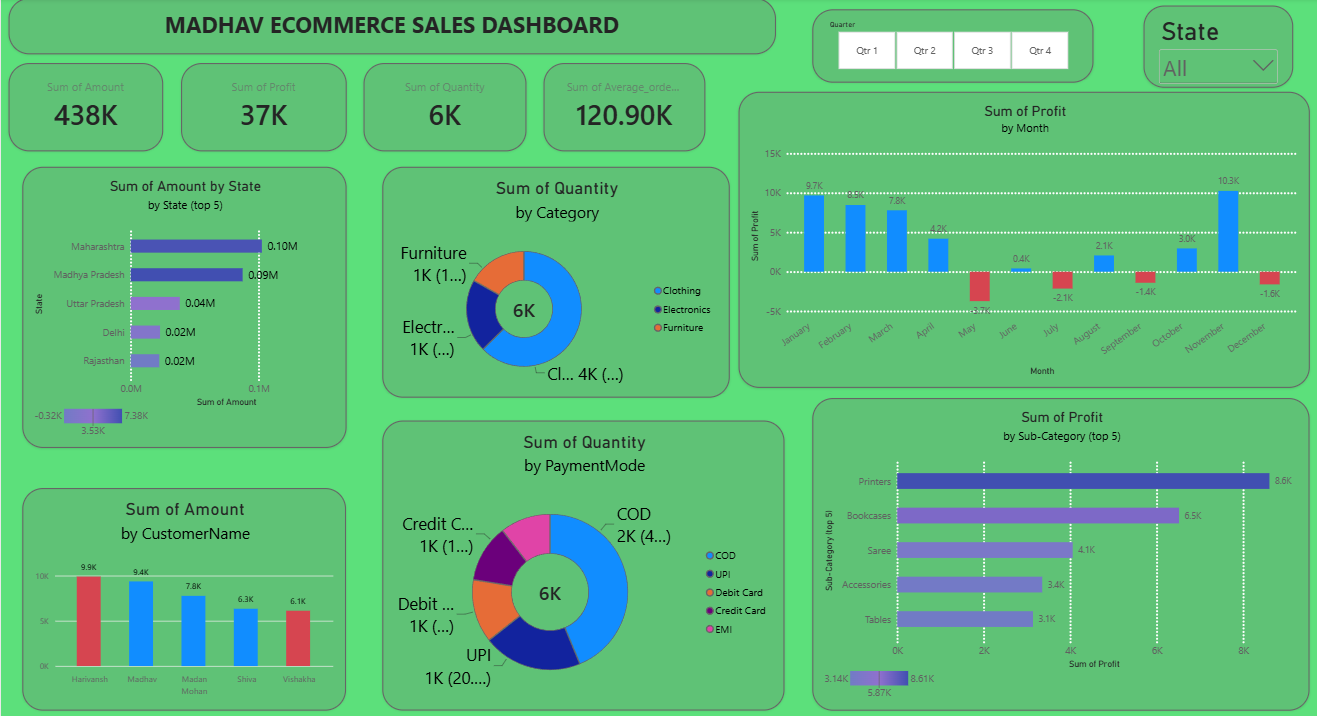

This screenshot's page, from the dashboard's own definition file:
{"tool":"powerbi","page":{"name":"Page 1","canvas":[1920,1080],"ordinal":0},"visuals":[{"type":"textbox","box":[10.9,0,1111.1,81.4],"z":0},{"type":"columnChart","fields":{"Category":["Orders.Order Date.Variation.Date Hierarchy.Month"],"Y":["Sum(Details.Profit)"]},"box":[1067.7,135.7,827,428.9],"z":1000},{"type":"barChart","fields":{"Category":["Details.Sub-Category"],"Y":["Sum(Details.Profit)"]},"box":[1174.5,579.1,720.2,452.4],"z":2000},{"type":"donutChart","fields":{"Category":["Details.Category"],"Y":["Sum(Details.Quantity)"]},"box":[551.9,244.3,503.1,334.8],"z":3000},{"type":"donutChart","fields":{"Category":["Details.PaymentMode"],"Y":["Sum(Details.Quantity)"]},"box":[551.9,611.7,582.7,419.8],"z":4000},{"type":"cardVisual","fields":{"Data":["Sum(Details.Amount)"]},"box":[10,94,224,128],"z":5000},{"type":"cardVisual","fields":{"Data":["Sum(Details.Quantity)"]},"box":[524,94,236,128],"z":6000},{"type":"cardVisual","fields":{"Data":["Sum(Details.Profit)"]},"box":[260,94,240,128],"z":7000},{"type":"cardVisual","fields":{"Data":["Sum(Details.Average_order_value)"]},"box":[786,94,234,128],"z":8000},{"type":"barChart","fields":{"Category":["Orders.State"],"Y":["Sum(Details.Amount)"]},"box":[30.9,244.9,469.3,407.5],"z":9000},{"type":"clusteredColumnChart","fields":{"Category":["Orders.CustomerName"],"Y":["Sum(Details.Amount)"]},"box":[30.8,709.4,468.7,322.1],"z":10000},{"type":"slicer","fields":{"Values":["Orders.Order Date.Variation.Date Hierarchy.Quarter"]},"box":[1174.5,16.3,407.2,106.8],"z":11000},{"type":"slicer","fields":{"Values":["Orders.State"]},"box":[1654,10.9,217.2,119.4],"z":12000}]}

Visuals, with their boxes on the page's 1920x1080 design canvas (x1, y1, x2, y2). These are canvas units, not pixel positions in the 1317x716 screenshot, which may show the page scaled, cropped or inside an application window:
textbox: bbox=[11, 0, 1122, 81]
columnChart - Orders.Order Date.Variation.Date Hierarchy.Month x Sum(Details.Profit): bbox=[1068, 136, 1895, 565]
barChart - Details.Sub-Category x Sum(Details.Profit): bbox=[1174, 579, 1895, 1032]
donutChart - Details.Category x Sum(Details.Quantity): bbox=[552, 244, 1055, 579]
donutChart - Details.PaymentMode x Sum(Details.Quantity): bbox=[552, 612, 1135, 1032]
cardVisual - Sum(Details.Amount): bbox=[10, 94, 234, 222]
cardVisual - Sum(Details.Quantity): bbox=[524, 94, 760, 222]
cardVisual - Sum(Details.Profit): bbox=[260, 94, 500, 222]
cardVisual - Sum(Details.Average_order_value): bbox=[786, 94, 1020, 222]
barChart - Orders.State x Sum(Details.Amount): bbox=[31, 245, 500, 652]
clusteredColumnChart - Orders.CustomerName x Sum(Details.Amount): bbox=[31, 709, 500, 1032]
slicer - Orders.Order Date.Variation.Date Hierarchy.Quarter: bbox=[1174, 16, 1582, 123]
slicer - Orders.State: bbox=[1654, 11, 1871, 130]
